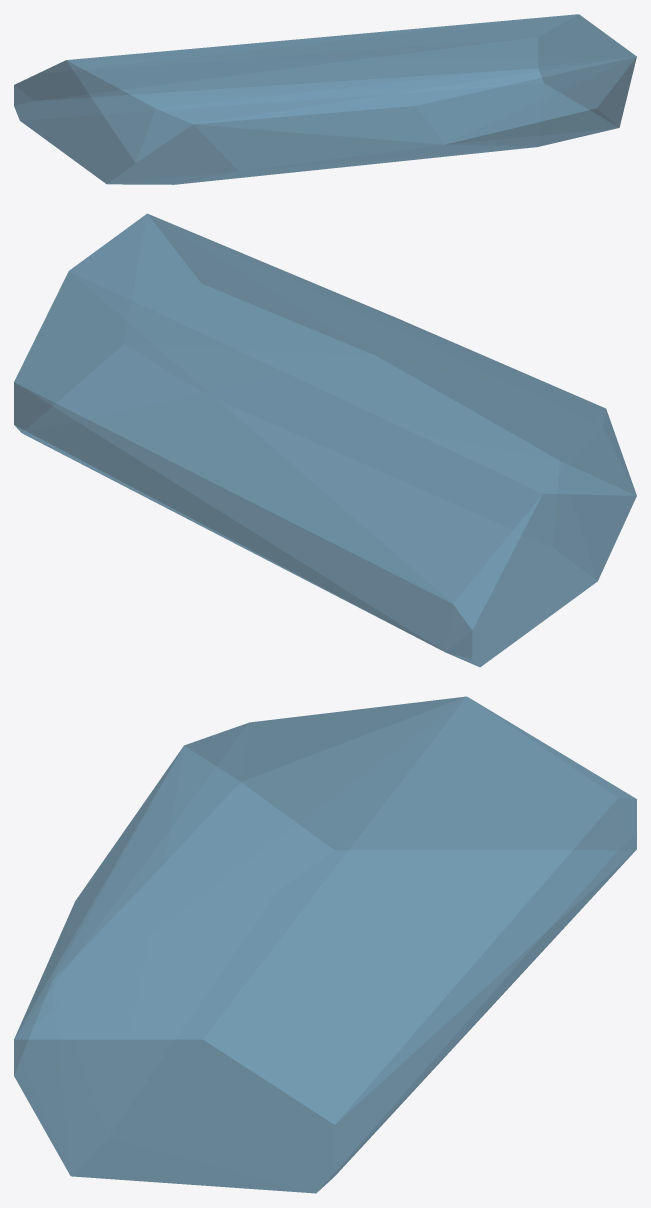
3 renders of one model, top to bottom at view 1: azimuth 30°, elevation 25°; view 2: azimuth 150°, elevation 25°; view 3: azimuth 270°, elevation 25°, orthographic. The views are drawn at different scales.
Visible parts, largest first — view 1: Shape_IndexedFaceSet.029_Shape_IndexedFaceSet.1397; view 2: Shape_IndexedFaceSet.029_Shape_IndexedFaceSet.1397; view 3: Shape_IndexedFaceSet.029_Shape_IndexedFaceSet.1397.
Part boxes in pixels (x1=…): Shape_IndexedFaceSet.029_Shape_IndexedFaceSet.1397: x1=14, y1=14, x2=636, y2=184; Shape_IndexedFaceSet.029_Shape_IndexedFaceSet.1397: x1=14, y1=213, x2=636, y2=667; Shape_IndexedFaceSet.029_Shape_IndexedFaceSet.1397: x1=14, y1=696, x2=636, y2=1193.
Bounding box in the file's own units: 0.1048 × 0.0219 × 0.0805.
